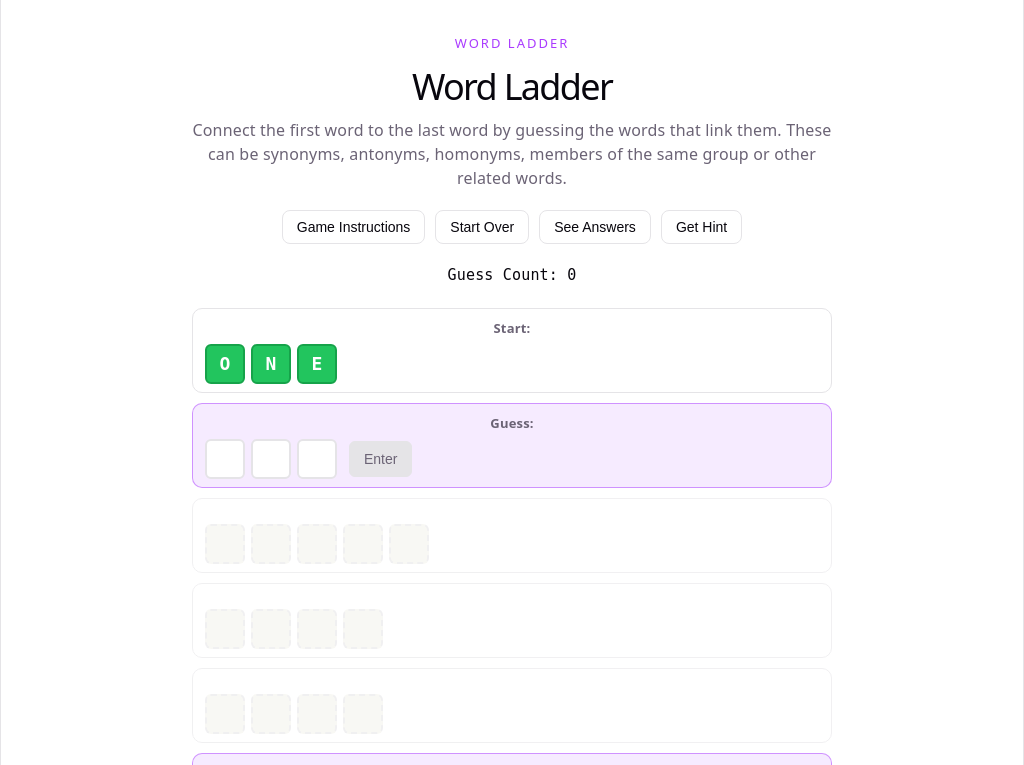
Scenario: App (Word Ladder game) › shows letter feedback for a valid but incorrect guess, then solves the row
In the field named "Row 2, letter 1": (225, 459) [205,439,245,479], type "F"
In the field named "Row 2, letter 2": (271, 459) [251,439,291,479], type "O"
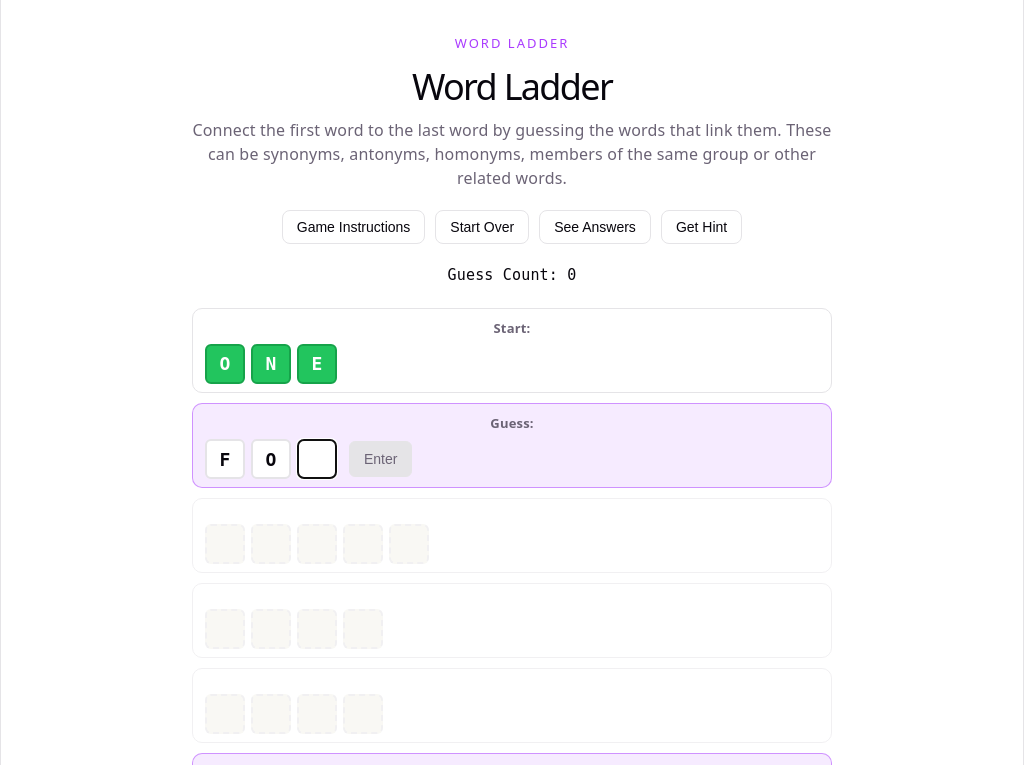
In the field named "Row 2, letter 3": (317, 459) [297,439,337,479], type "O"
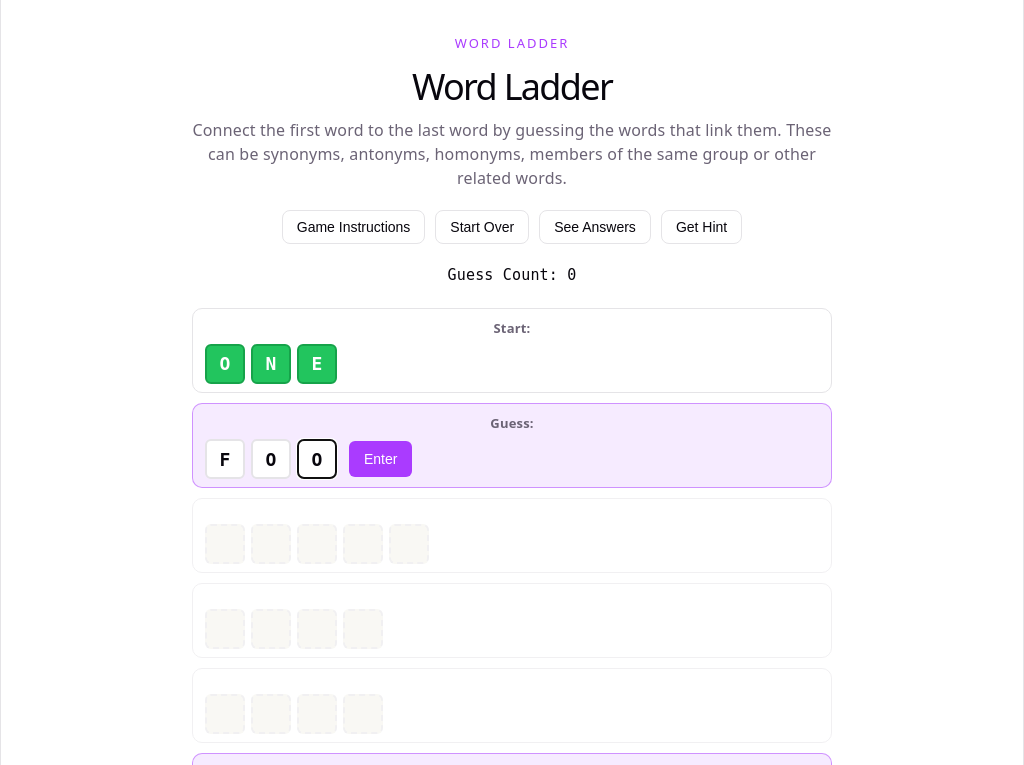
Click the button "Enter": (381, 459) [349,441,412,477]
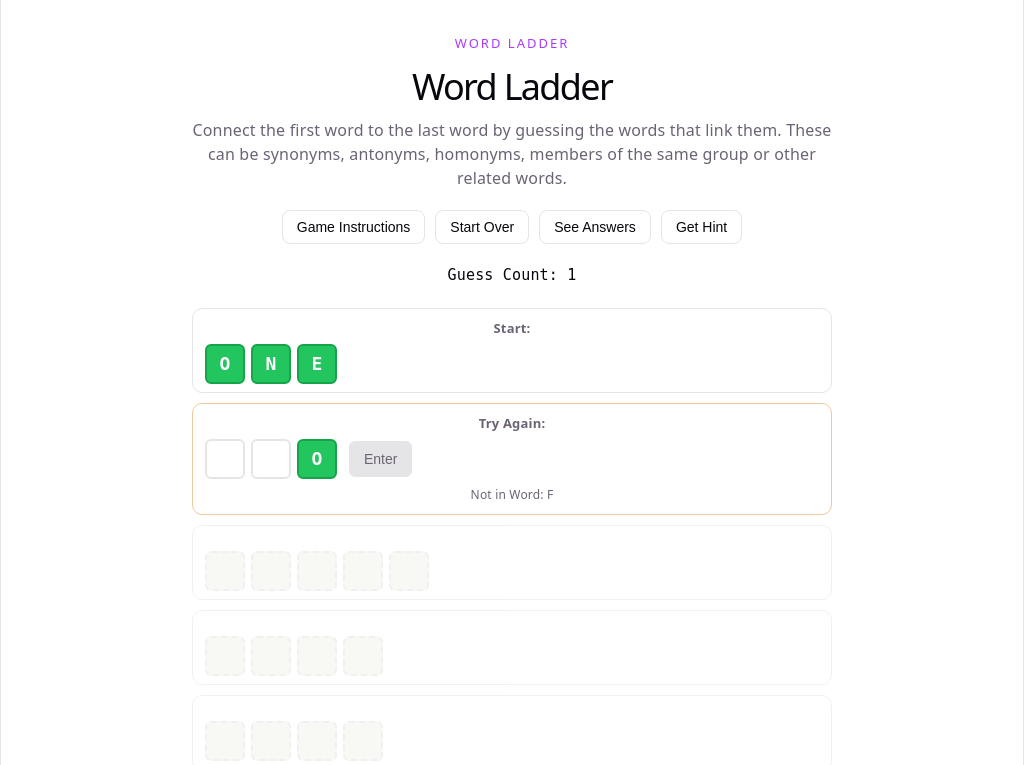
Expected: the text with class "word-ladder__count" shows "1", [567,266,576,284]
In the field named "Row 2, letter 1": (225, 459) [205,439,245,479], type "T"
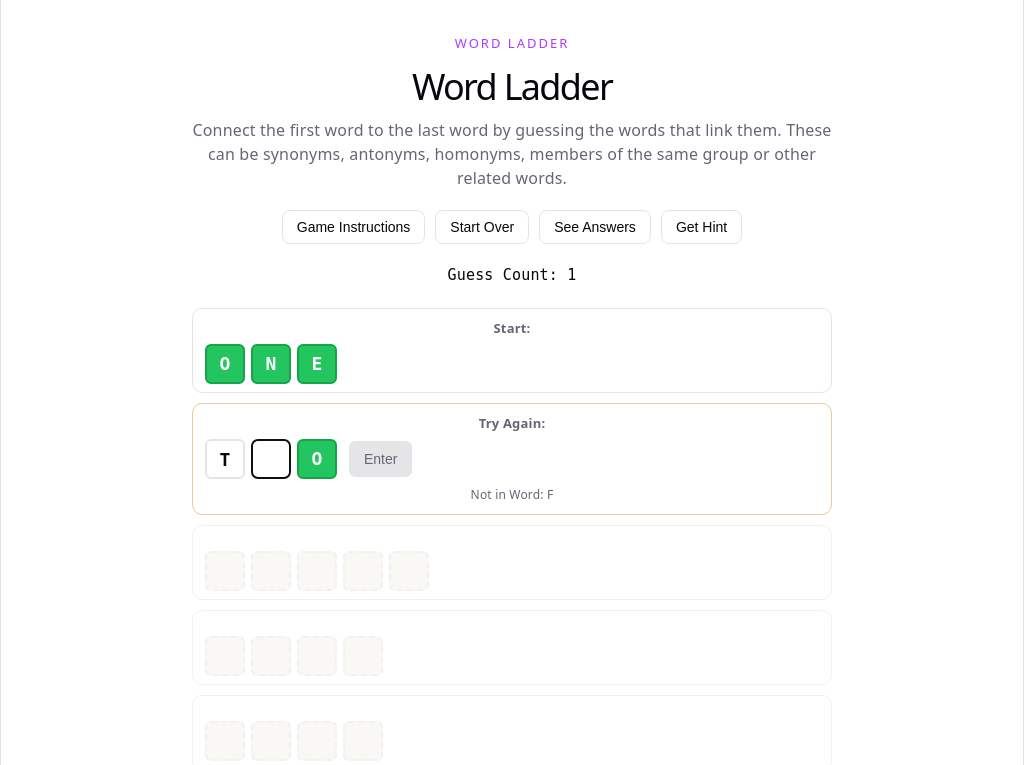
In the field named "Row 2, letter 2": (271, 459) [251,439,291,479], type "W"
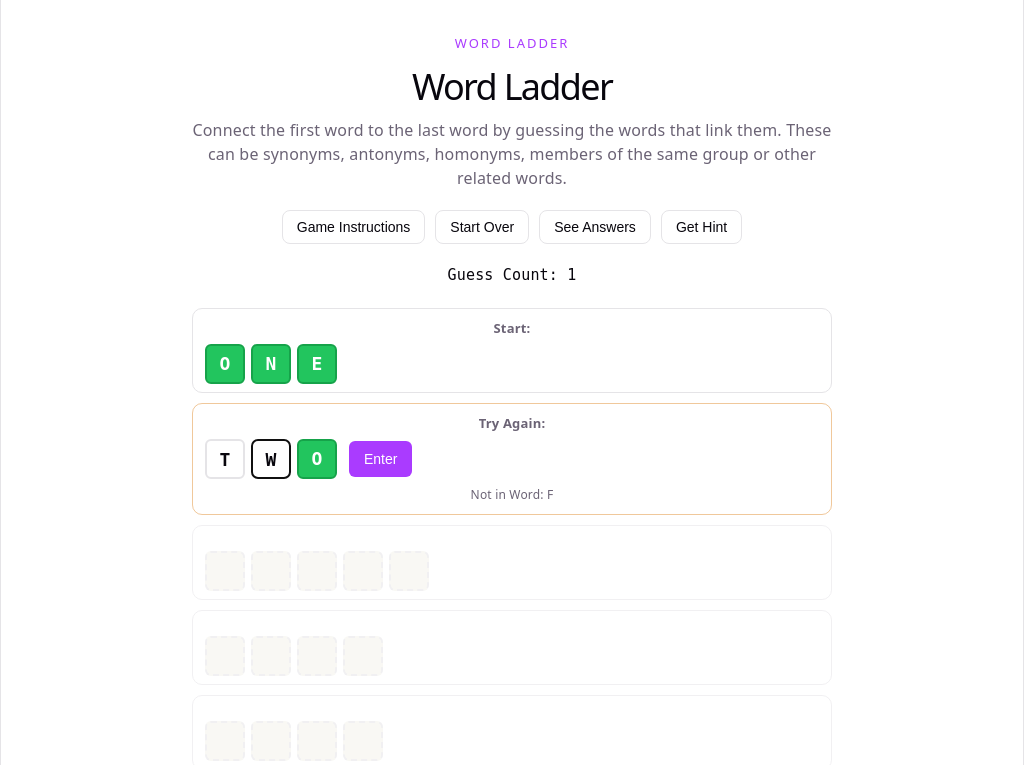
Click the button "Enter": (381, 459) [349,441,412,477]
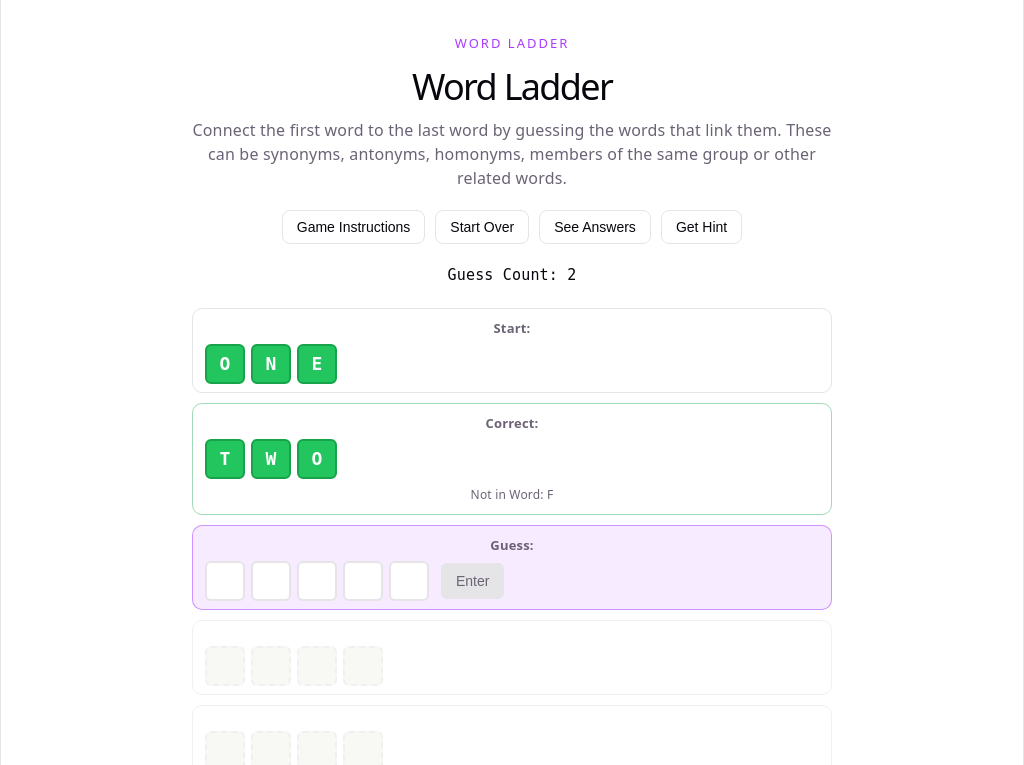
Expected: the text with class "word-ladder__count" shows "2", [567,266,576,284]
